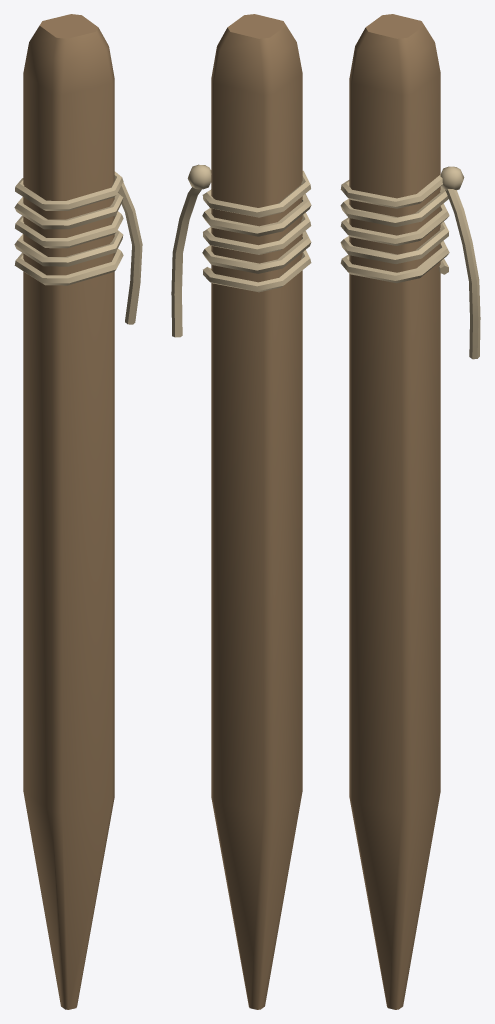
File: funnel-stake.glb
3 renders of one model, left to right at view 1: azimuth 30°, elevation 25°; view 2: azimuth 150°, elevation 25°; view 3: azimuth 330°, elevation 25°, orthographic.
Parts seen in each view (by area): view 1: SM_Jam_FunnelStake; view 2: SM_Jam_FunnelStake; view 3: SM_Jam_FunnelStake.
Part boxes in pixels (<box>): SM_Jam_FunnelStake: <box>14,14,142,1009</box>; SM_Jam_FunnelStake: <box>171,14,311,1009</box>; SM_Jam_FunnelStake: <box>340,14,480,1009</box>.
Bounding box in the file's own units: 0.07 × 0.553 × 0.0482.
